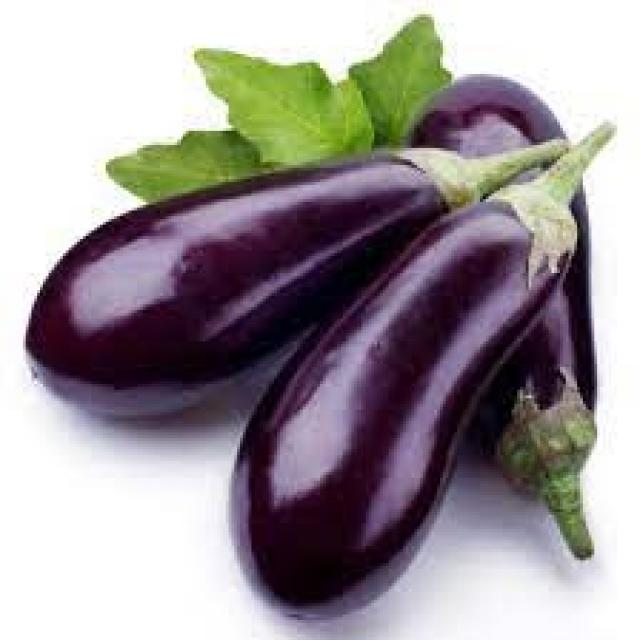eggplant: (226, 119, 617, 623), (26, 141, 566, 417)
